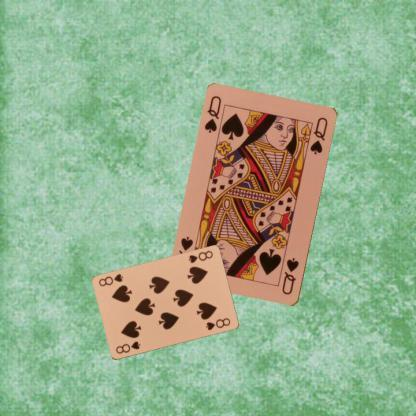8s: (113, 338, 141, 356), (185, 248, 214, 264)
Qs: (202, 94, 224, 134), (280, 256, 300, 296)
